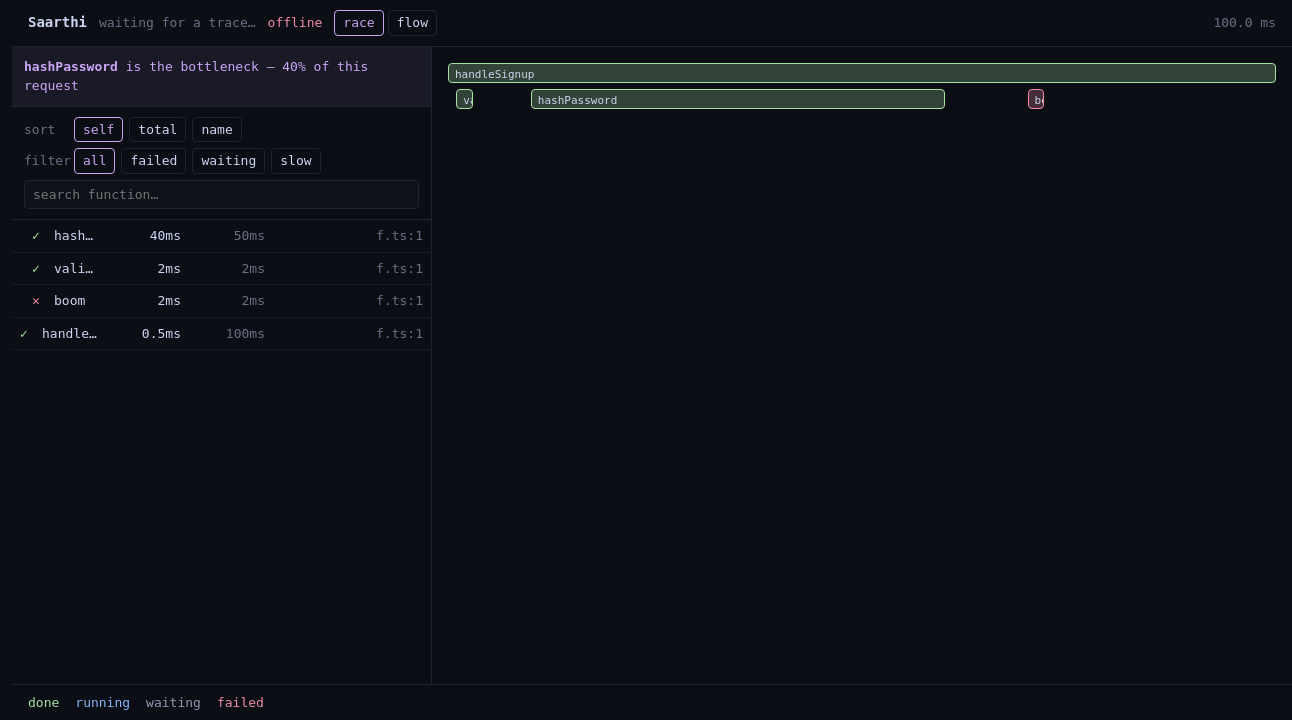
Test: TraceView › toggles between race and flow views, keeping the trace and bottleneck
Click the button "flow".
click(412, 23)  # box left=388, top=10, right=437, bottom=36
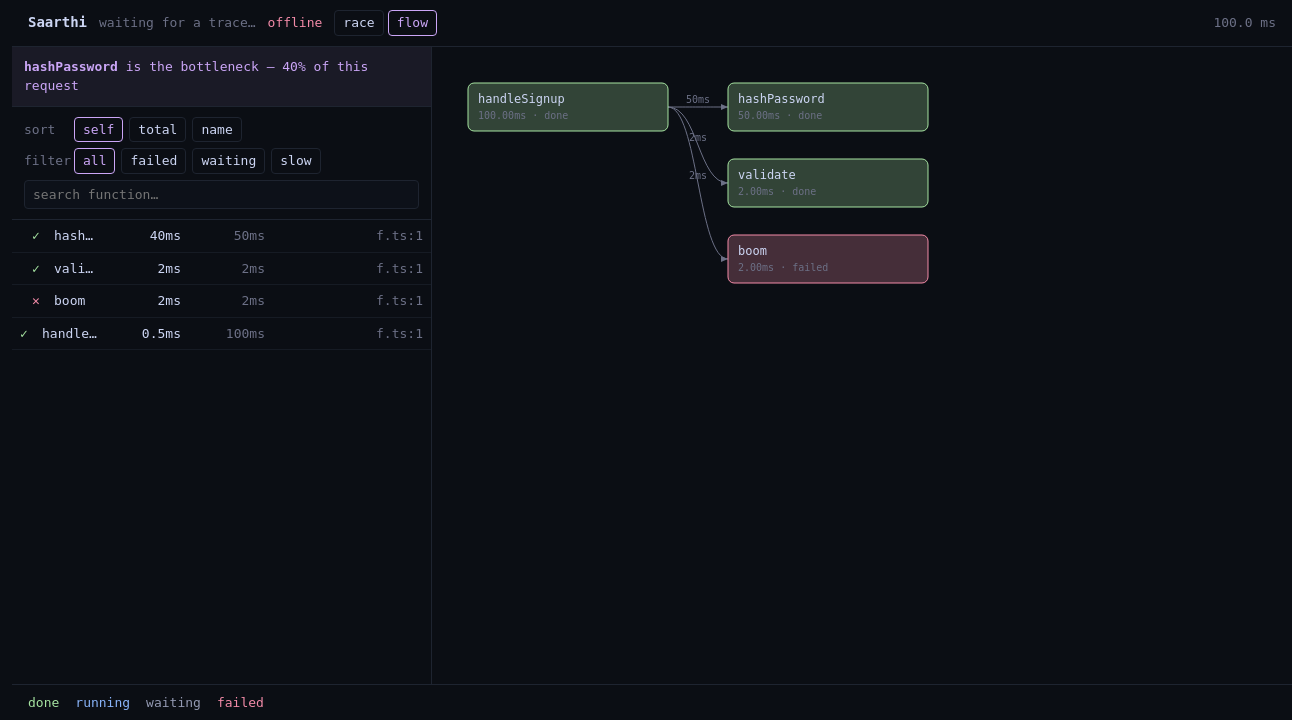
Expected: the element with test id "bottleneck" shows "hashPassword", left=24, top=58, right=118, bottom=74
Click the button "race".
click(359, 23)  # box left=334, top=10, right=384, bottom=36
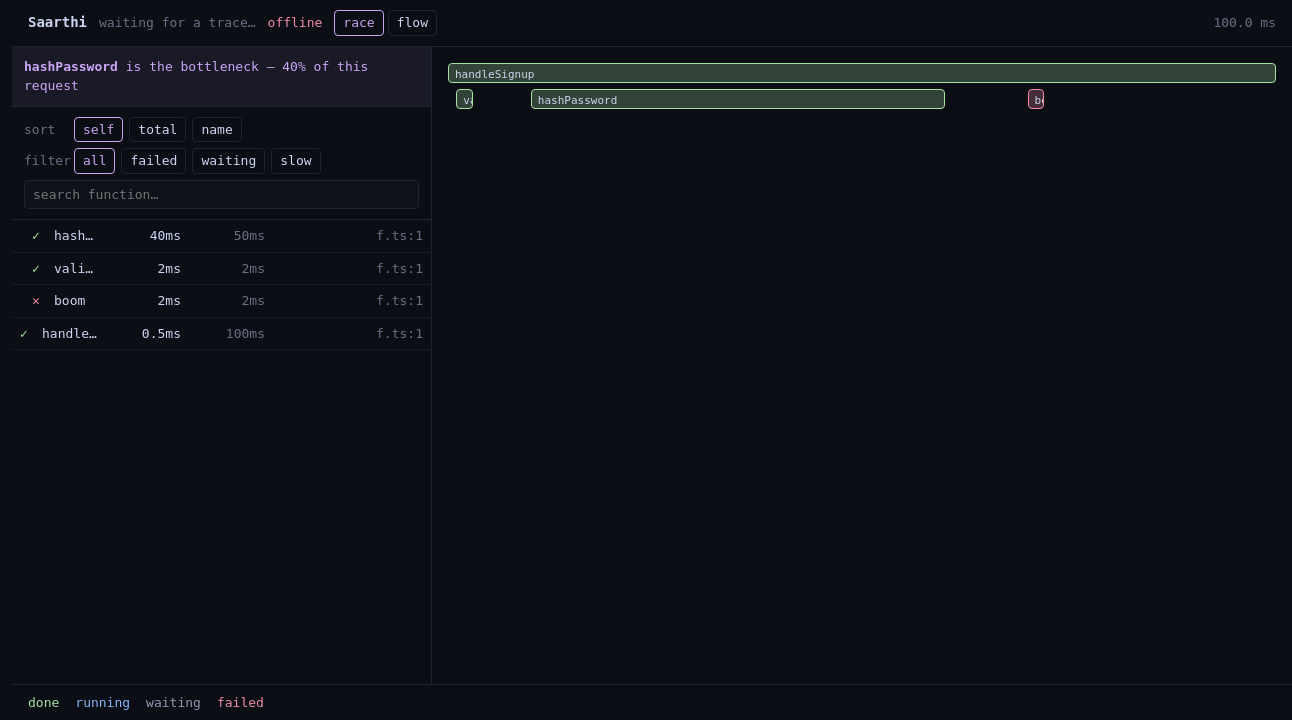
Expected: the number of elements with test id "waterfall-box" is 4, left=448, top=62, right=1276, bottom=82; left=456, top=88, right=473, bottom=108; left=531, top=88, right=945, bottom=108; left=1028, top=88, right=1044, bottom=108
